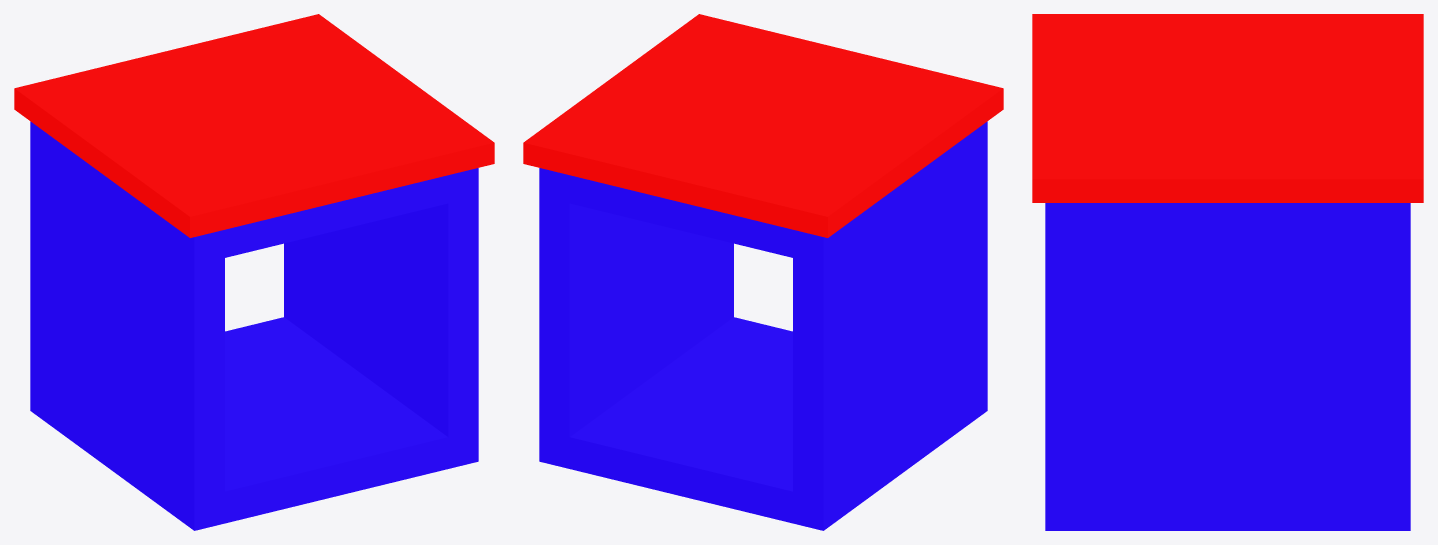
The model's file is SideTable.fbx.
3 views of the same model, side by side, from view 1: azimuth 30°, elevation 25°; view 2: azimuth 150°, elevation 25°; view 3: azimuth 270°, elevation 25° (orthographic). The views are drawn at different scales.
Parts seen in each view (by area): view 1: Beistelltisch; view 2: Beistelltisch; view 3: Beistelltisch.
Part boxes in pixels (bbox=[...]): Beistelltisch: bbox=[14, 14, 494, 530]; Beistelltisch: bbox=[523, 14, 1003, 530]; Beistelltisch: bbox=[1032, 14, 1423, 530].
Size of the model in its own units: 75 by 75.5 by 75.
